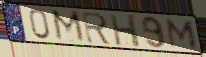0: (29, 8, 52, 41)
9: (140, 15, 167, 50)
H: (108, 13, 142, 49)
M: (50, 8, 89, 45), (165, 18, 199, 50)
R: (81, 11, 114, 47)
